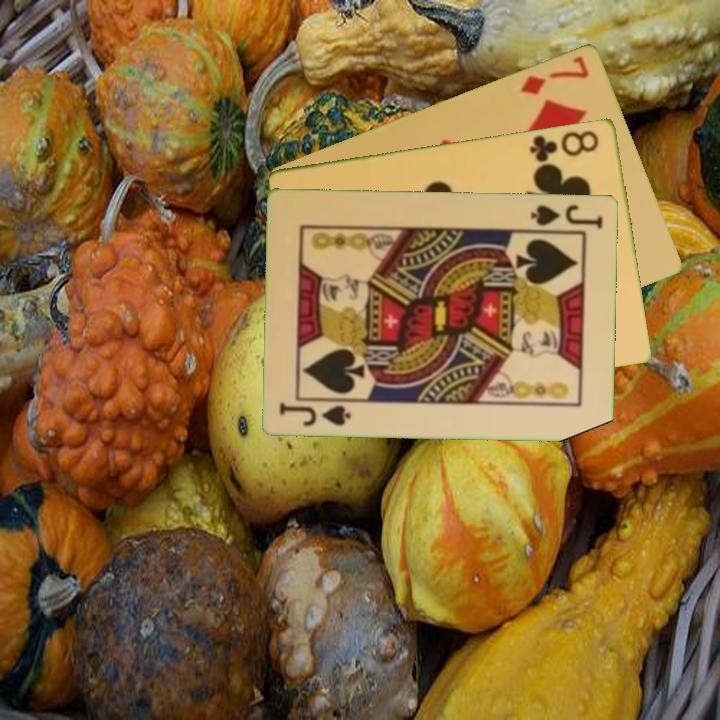7d: (517, 51, 592, 97)
8c: (526, 126, 602, 165)
Js: (528, 201, 607, 231), (276, 398, 354, 428)
